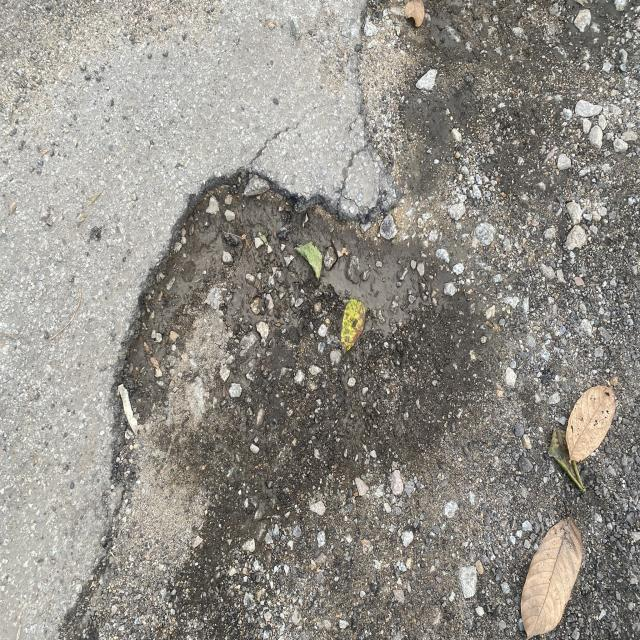pothole: (75, 122, 386, 538)
